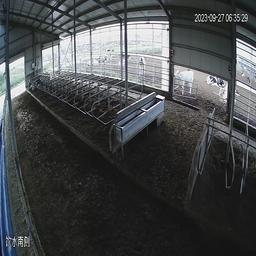cow: (175, 70, 195, 98), (206, 71, 225, 90), (29, 78, 43, 93)
